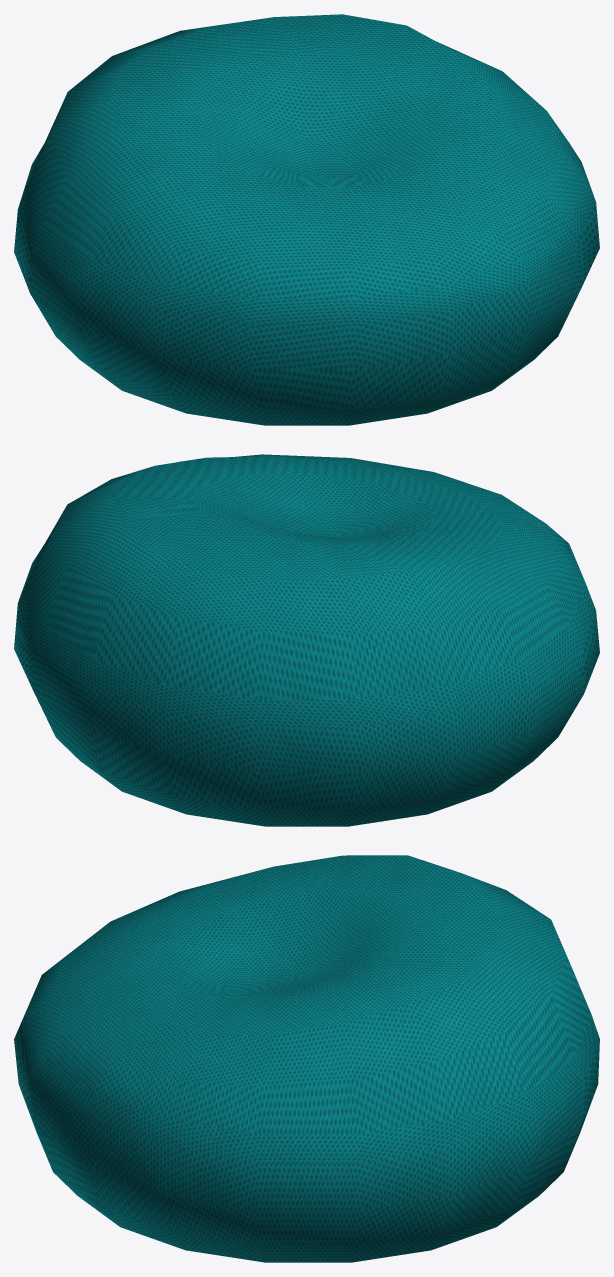
File: Bean_bag_06.FBX
The picture shows the model from 3 angles, top to bottom: view 1: azimuth 30°, elevation 25°; view 2: azimuth 150°, elevation 25°; view 3: azimuth 270°, elevation 25°; orthographic projection.
Parts seen in each view (by area): view 1: Bean_bag_Chair; view 2: Bean_bag_Chair; view 3: Bean_bag_Chair.
Boxes of the visible parts, left/top/right/bottom form: Bean_bag_Chair: left=14, top=14, right=599, bottom=425; Bean_bag_Chair: left=14, top=454, right=599, bottom=826; Bean_bag_Chair: left=14, top=855, right=599, bottom=1262.
Size of the model in its own units: 194 by 84.31 by 191.
